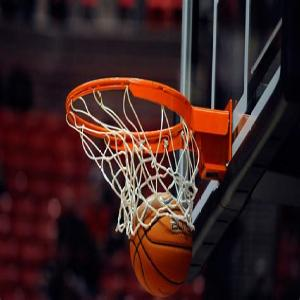Basket: (130, 193, 194, 298)
